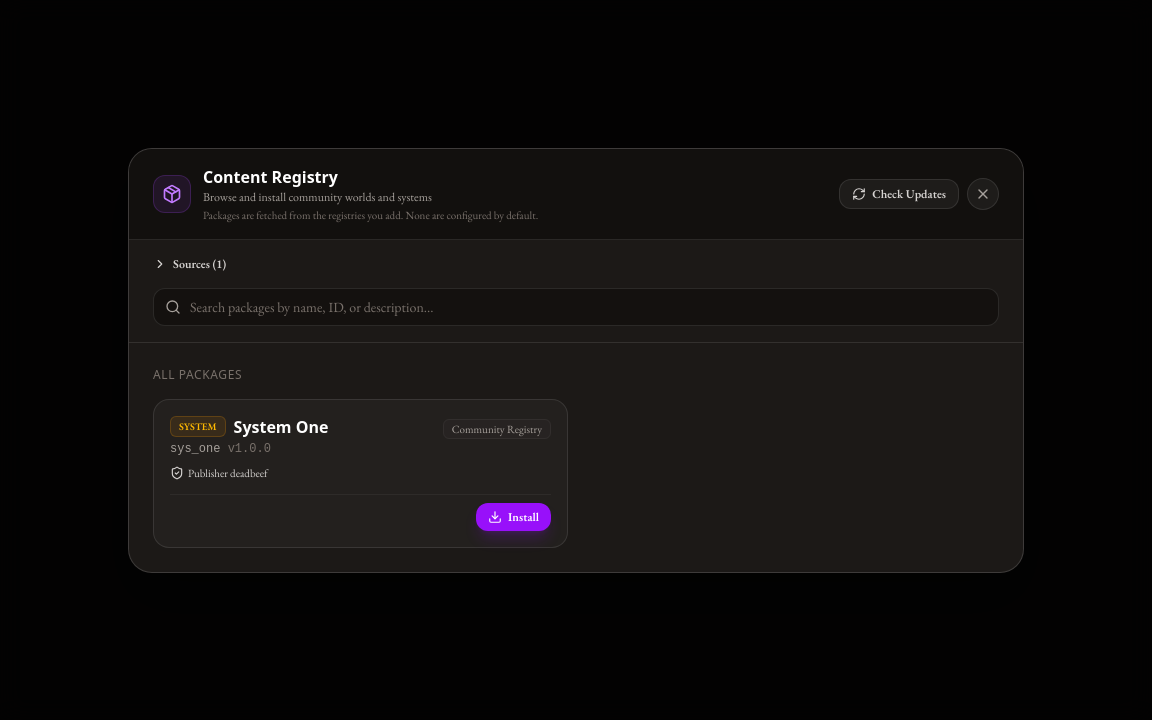
Scenario: RegistryModal › shows the publisher and makes no provenance claim before install
This screenshot has width=1152, height=720.
Expected: the text "Publisher deadbeef" is shown, [170,465,268,482]
Click the button "Install": [514, 516] box [476,502,551,530]
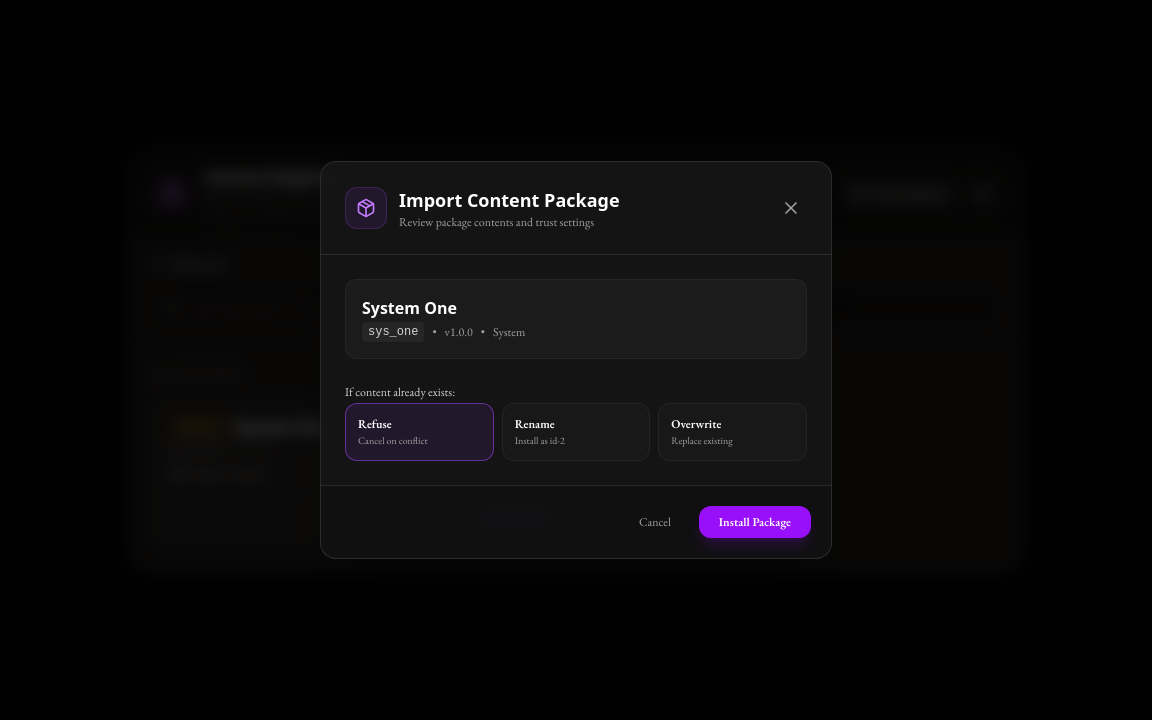
Now the heading "Import Content Package" is shown, box [399,186,620,214]
